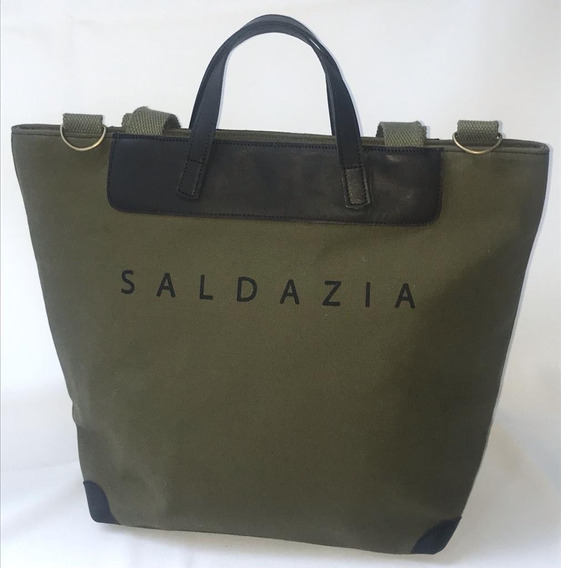cartera: (10, 14, 550, 557)
